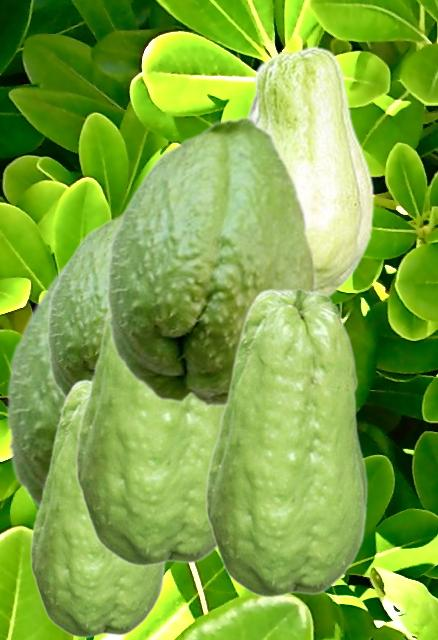sayote: (105, 114, 317, 408), (204, 287, 368, 598), (74, 310, 222, 567), (29, 378, 166, 638), (244, 45, 373, 297), (5, 259, 66, 508), (46, 213, 120, 398)
